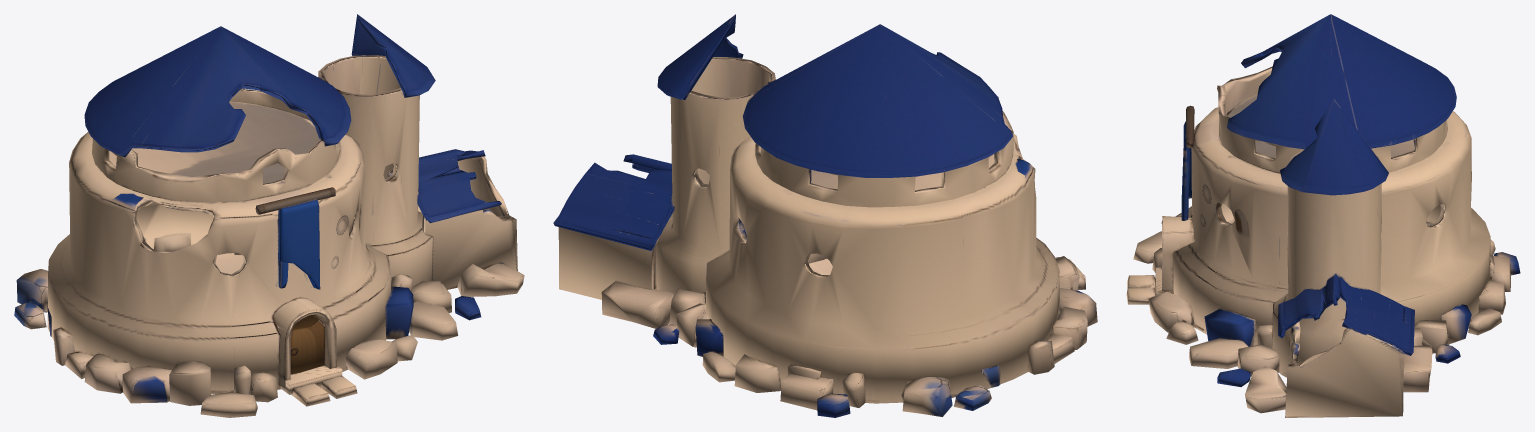
The model's file is meshy-c5-d2.glb.
The picture shows the model from 3 angles, left to right: view 1: azimuth 30°, elevation 25°; view 2: azimuth 150°, elevation 25°; view 3: azimuth 270°, elevation 25°; orthographic projection. The views are drawn at different scales.
Size of the model in its own units: 1 by 0.6507 by 0.8319.
Materials: 1 (1 with a texture image).
